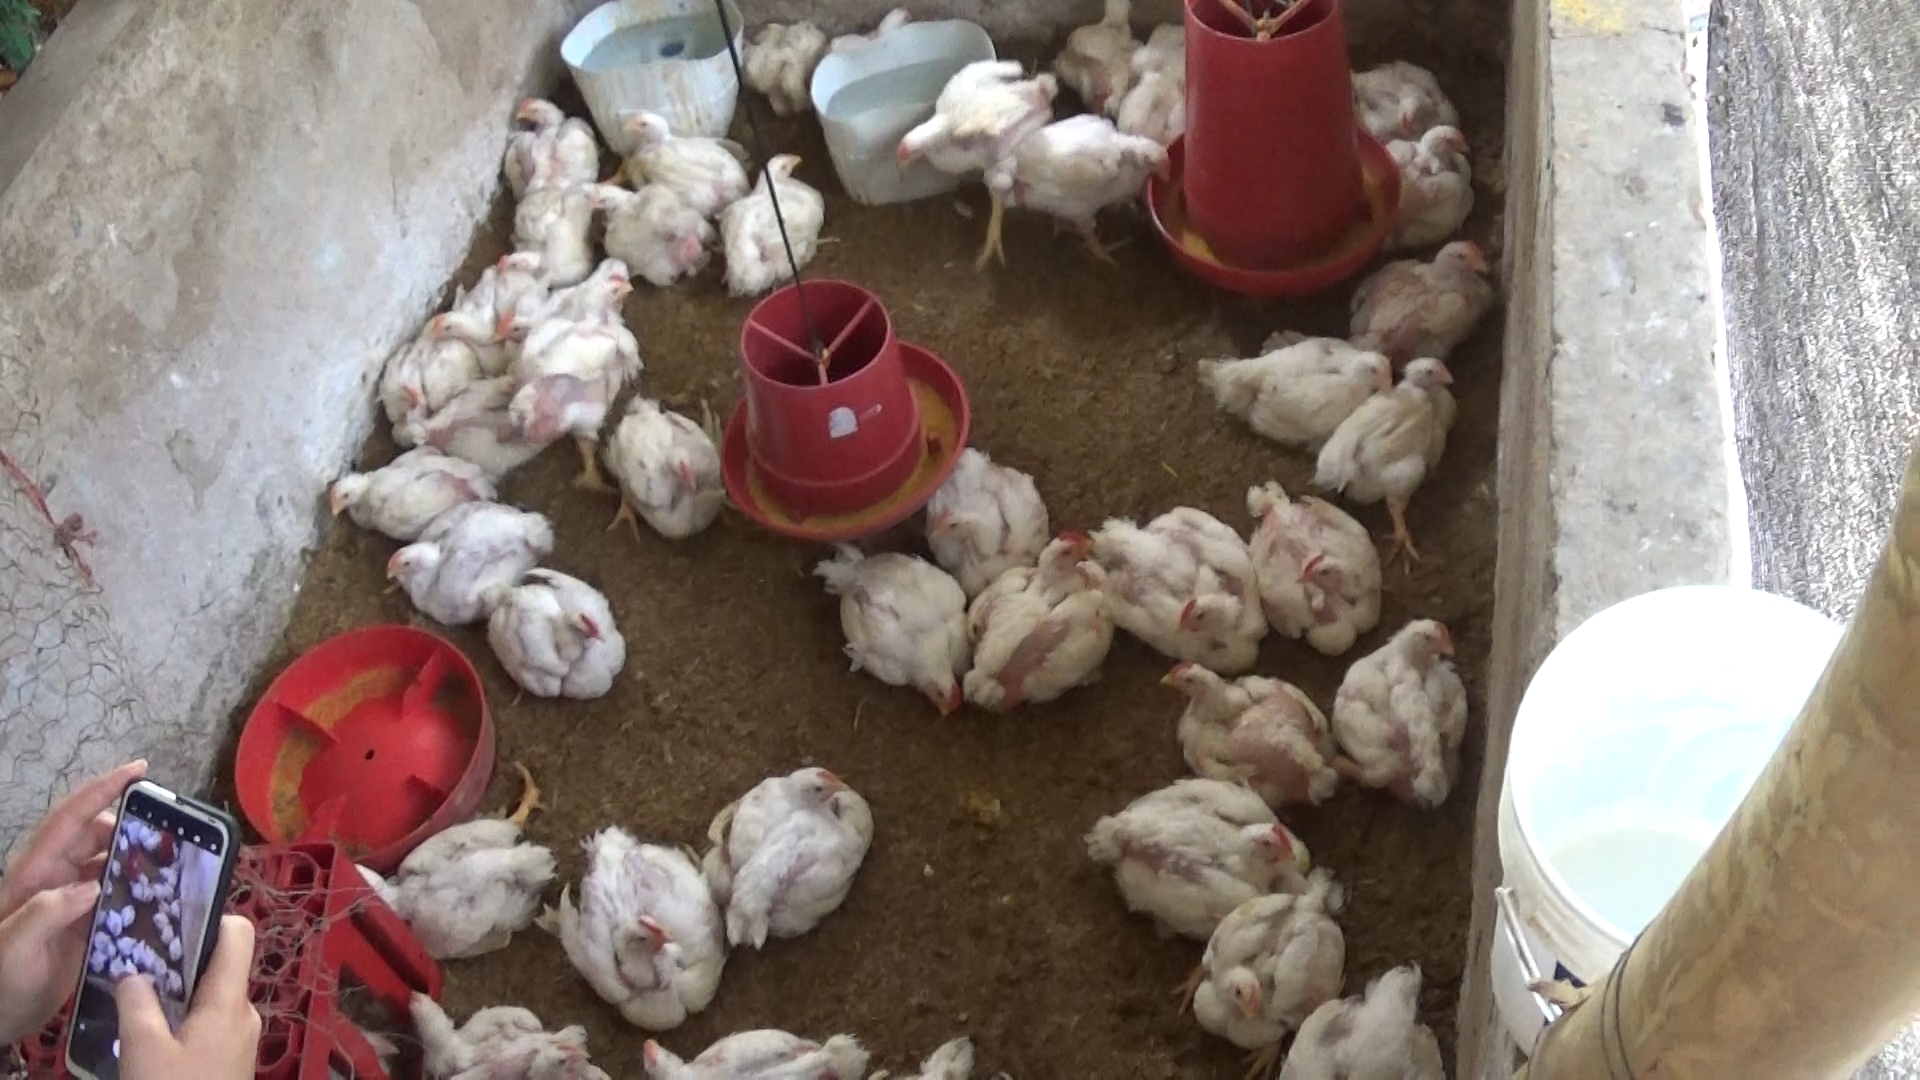Pollos: (1080, 773, 1316, 932), (891, 51, 1054, 282), (556, 825, 731, 1034), (707, 753, 881, 952), (1182, 876, 1360, 1062), (347, 789, 545, 948), (517, 268, 647, 500), (1180, 316, 1393, 452), (965, 522, 1117, 712), (833, 520, 975, 721), (1105, 506, 1269, 676), (1332, 612, 1481, 796), (1309, 353, 1474, 520), (1149, 649, 1332, 798), (1011, 112, 1168, 266), (376, 498, 553, 633), (480, 568, 637, 708), (1246, 492, 1382, 649), (600, 397, 735, 549), (1280, 967, 1456, 1080), (616, 1002, 870, 1080), (1352, 232, 1509, 357), (715, 146, 831, 301), (316, 443, 487, 541), (926, 434, 1048, 567), (584, 170, 716, 291), (620, 102, 754, 215), (1367, 121, 1490, 237), (372, 982, 527, 1072), (1338, 42, 1458, 132), (1055, 0, 1146, 109), (504, 94, 600, 187), (375, 330, 480, 414), (484, 200, 582, 284), (425, 294, 516, 367), (505, 1034, 618, 1080), (473, 305, 568, 356)
